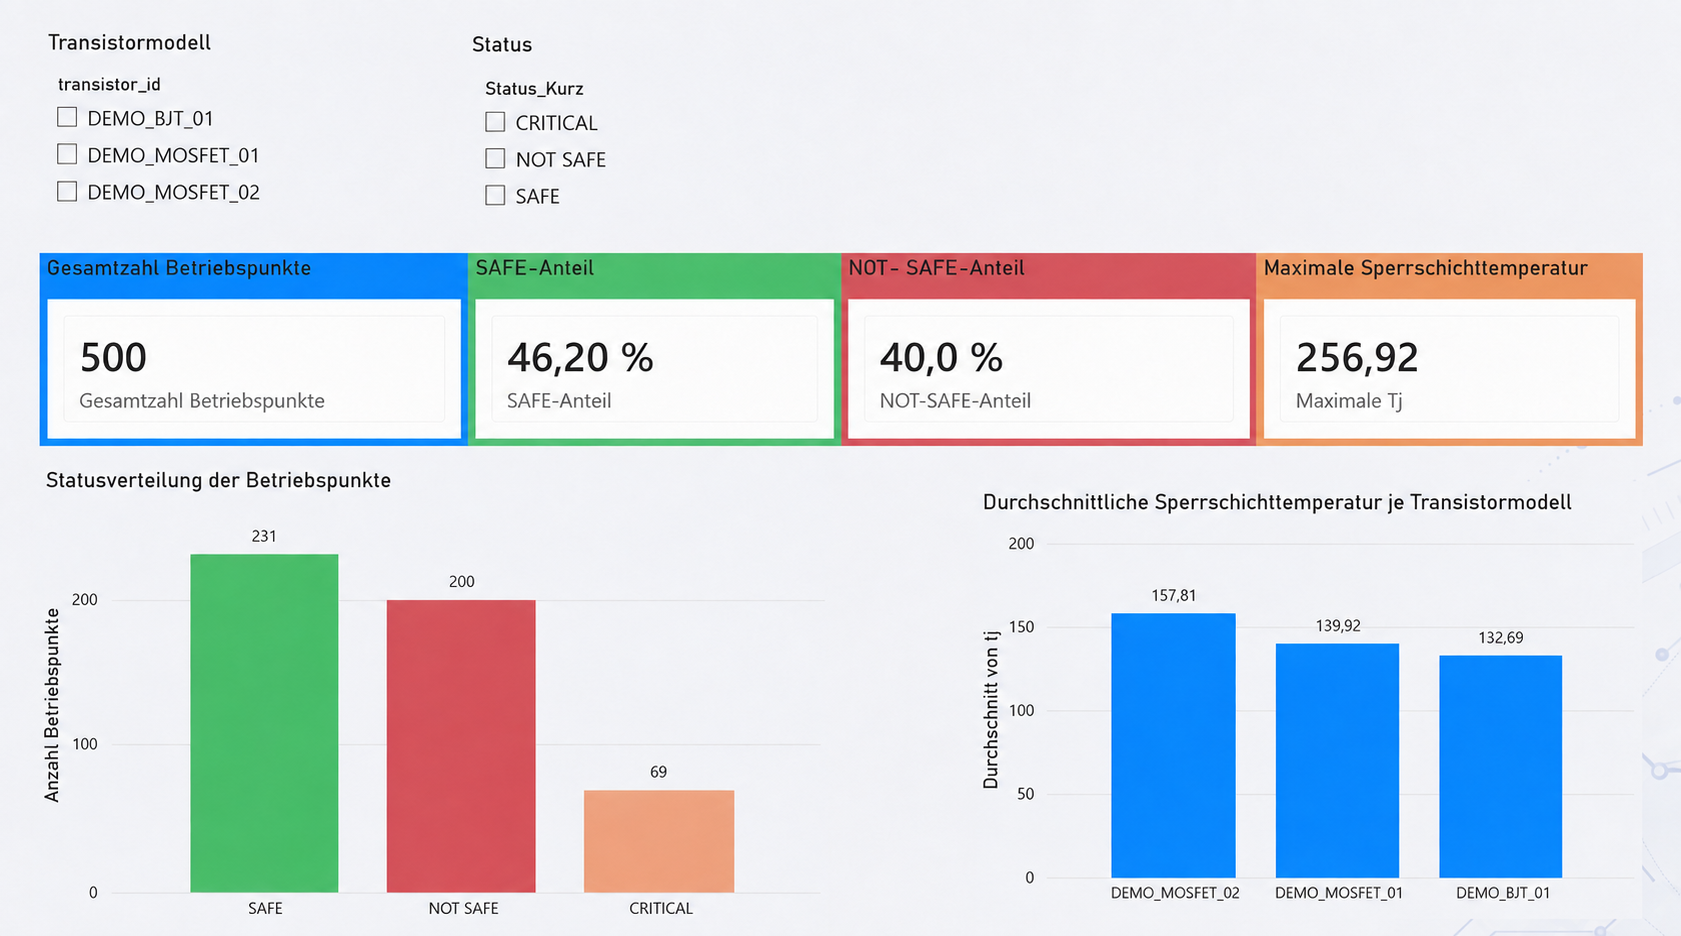

This screenshot's page, from the dashboard's own definition file:
{"tool":"powerbi","page":{"name":"Seite 1","canvas":[1280,720],"ordinal":0},"visuals":[{"type":"cardVisual","title":"Gesamtzahl Betriebspunkte","fields":{"Data":["results.Gesamtzahl Betriebspunkte"]},"box":[2.7,189.4,336.2,148.2],"z":0},{"type":"cardVisual","title":"SAFE-Anteil","fields":{"Data":["results.SAFE-Anteil"]},"box":[338.7,189.5,293.7,148.2],"z":1000},{"type":"cardVisual","title":"NOT- SAFE-Anteil","fields":{"Data":["results.NOT-SAFE-Anteil"]},"box":[632.2,189.5,328.9,148],"z":2000},{"type":"cardVisual","title":"Maximale Sperrschichttemperatur","fields":{"Data":["results.Maximale Tj"]},"box":[961.1,189.5,302,148],"z":3000},{"type":"columnChart","title":"Statusverteilung der Betriebspunkte","fields":{"Category":["results.Status_Kurz"],"Y":["CountNonNull(results.idx)"]},"box":[0,352.2,621.6,367.8],"z":4000},{"type":"columnChart","title":"Durchschnittliche Sperrschichttemperatur je Transistormodell","fields":{"Category":["results.transistor_id"],"Y":["Avg(results.tj)"]},"box":[738.6,368.1,524.2,336.2],"z":5000},{"type":"slicer","title":"Transistormodell","fields":{"Values":["results.transistor_id"]},"box":[2.4,20.8,263.7,156.8],"z":6000},{"type":"slicer","title":"Status","fields":{"Values":["results.Status_Kurz"]},"box":[338.7,24.5,294,150],"z":7000}]}

Visuals, with their boxes in screenshot pixels (x1, y1, x2, y2), scaled from the page's 1280x720 canvas onto the 1681x936 screenshot:
"Gesamtzahl Betriebspunkte" cardVisual: (left=4, top=246, right=445, bottom=439)
"SAFE-Anteil" cardVisual: (left=445, top=246, right=831, bottom=439)
"NOT- SAFE-Anteil" cardVisual: (left=830, top=246, right=1262, bottom=439)
"Maximale Sperrschichttemperatur" cardVisual: (left=1262, top=246, right=1659, bottom=439)
"Statusverteilung der Betriebspunkte" columnChart: (left=0, top=458, right=816, bottom=935)
"Durchschnittliche Sperrschichttemperatur je Transistormodell" columnChart: (left=970, top=479, right=1658, bottom=916)
"Transistormodell" slicer: (left=3, top=27, right=349, bottom=231)
"Status" slicer: (left=445, top=32, right=831, bottom=227)
